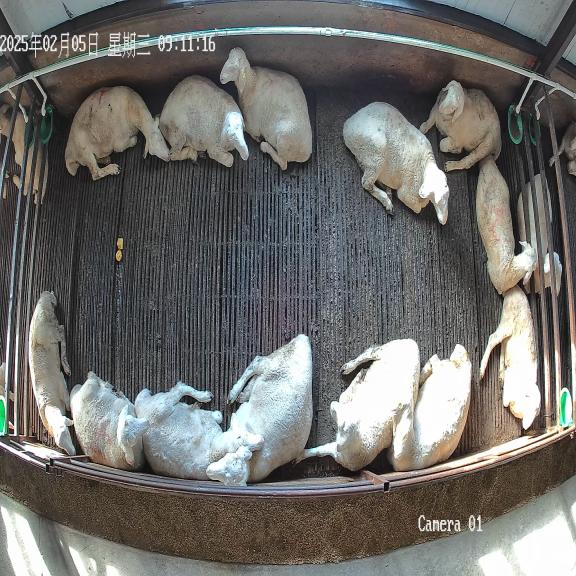lying: (206, 334, 313, 486), (297, 339, 420, 471), (343, 102, 449, 224), (134, 382, 264, 479), (220, 47, 312, 170), (388, 344, 471, 470), (65, 86, 170, 180), (480, 287, 540, 429), (159, 76, 249, 167), (476, 160, 536, 294), (70, 371, 148, 471), (28, 291, 75, 454), (419, 80, 501, 171)
